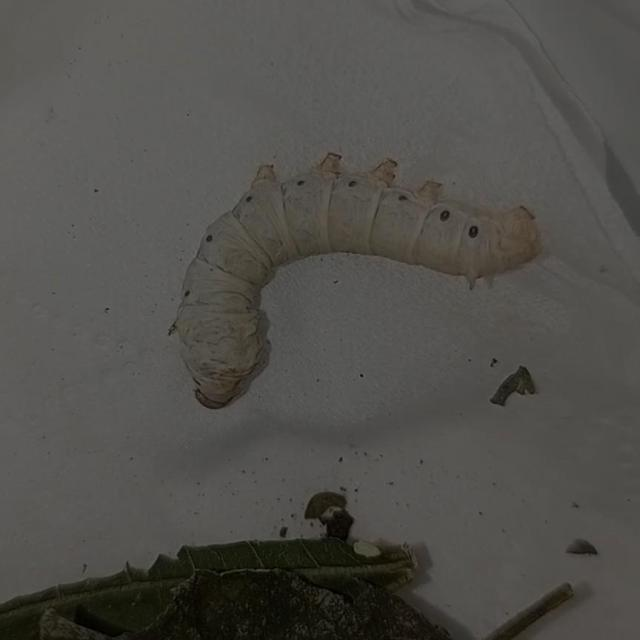Healthy: (141, 119, 567, 432)
